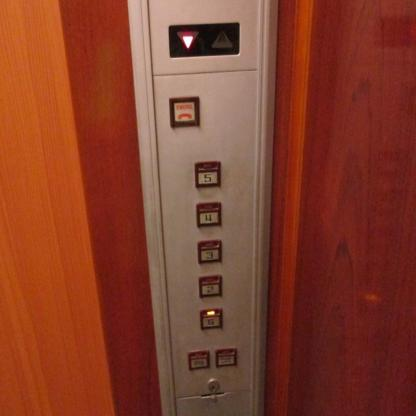2: (198, 274, 221, 296)
3: (197, 240, 221, 264)
4: (196, 202, 221, 228)
5: (194, 161, 220, 188)
G: (200, 308, 222, 329)
blur: (214, 346, 237, 367), (188, 349, 210, 370)
call: (168, 96, 199, 128)
keyhole: (206, 379, 220, 393)
led: (167, 20, 240, 58)
